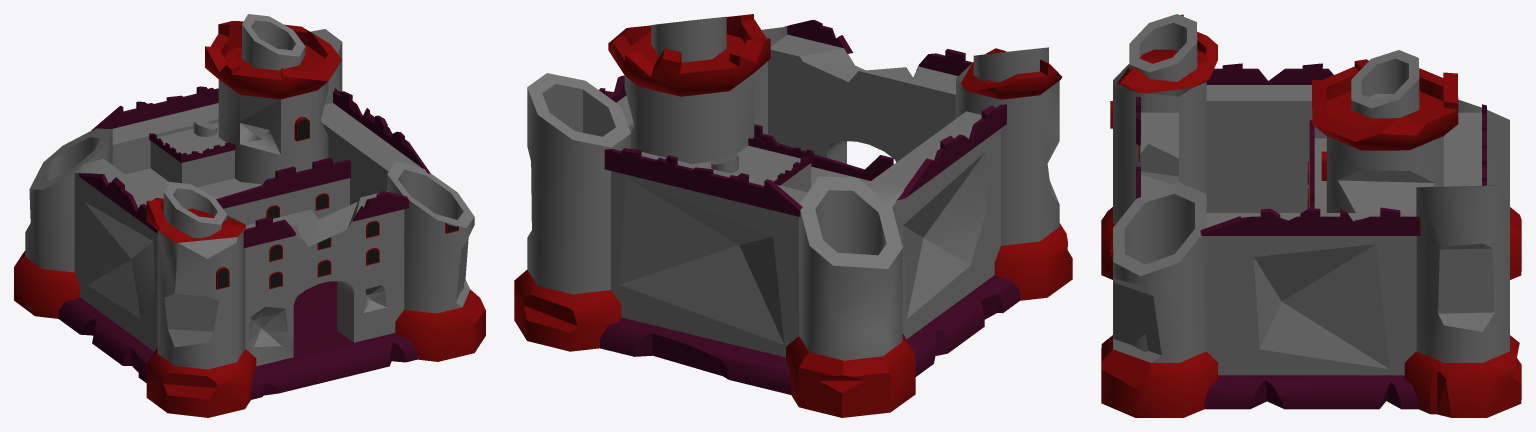
Rendered from Evil_Castle_Upgrade1_Stage3.fbx.
3 renders of one model, left to right at view 1: azimuth 30°, elevation 25°; view 2: azimuth 150°, elevation 25°; view 3: azimuth 270°, elevation 25°, orthographic. The views are drawn at different scales.
Parts seen in each view (by area): view 1: Evil_Castle_Upgrade1_Stage_3; view 2: Evil_Castle_Upgrade1_Stage_3; view 3: Evil_Castle_Upgrade1_Stage_3.
Part boxes in pixels (x1=…): Evil_Castle_Upgrade1_Stage_3: x1=14, y1=14, x2=485, y2=417; Evil_Castle_Upgrade1_Stage_3: x1=514, y1=14, x2=1072, y2=417; Evil_Castle_Upgrade1_Stage_3: x1=1101, y1=14, x2=1521, y2=417.
Bounding box in the file's own units: 832 × 647 × 832.
1 material, 1 textured.
